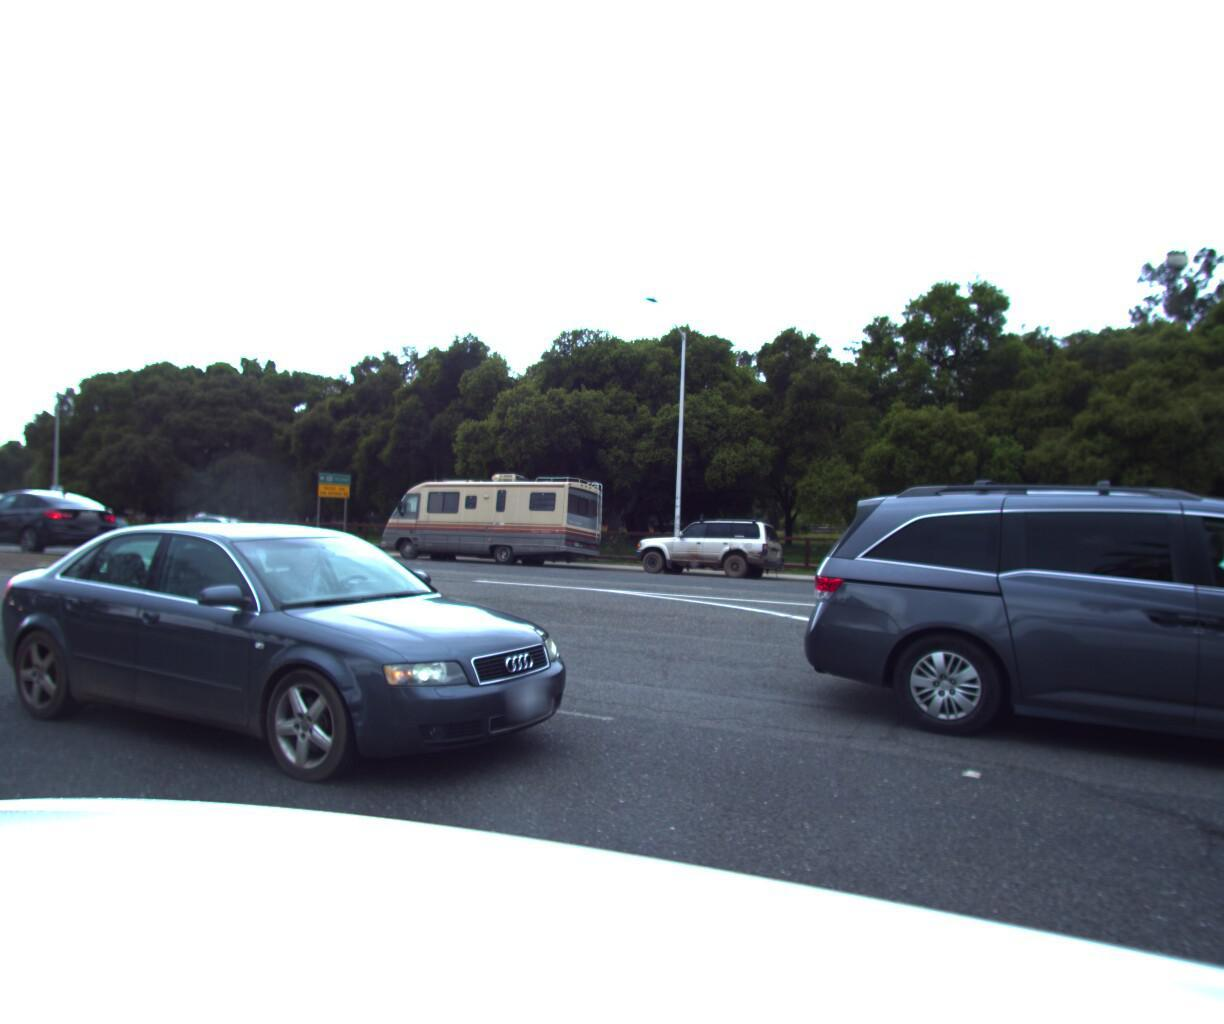car: (0, 513, 624, 829), (780, 468, 1224, 861), (1078, 514, 1224, 691), (628, 514, 794, 587), (0, 492, 130, 562), (51, 507, 175, 556), (161, 517, 261, 556), (49, 515, 136, 548), (0, 496, 18, 544), (0, 510, 5, 541)
motorcycle: (257, 522, 320, 558)
other_vehicle: (372, 471, 607, 577)
